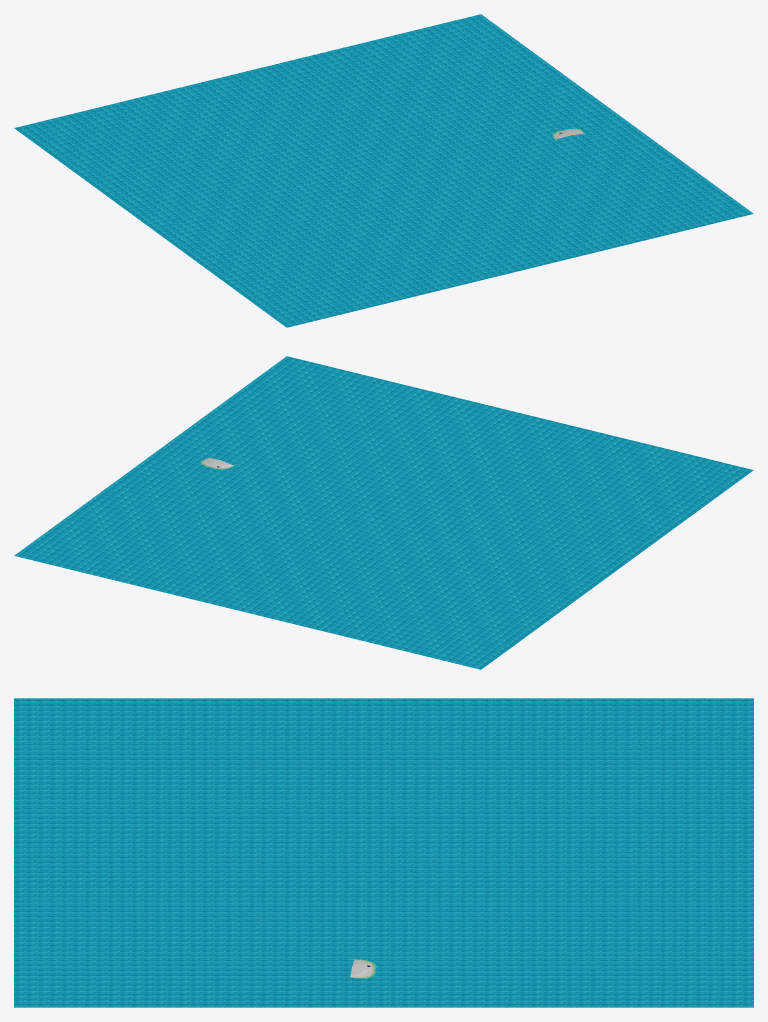
File: MainMenu2.obj
3 renders of one model, top to bottom at view 1: azimuth 30°, elevation 25°; view 2: azimuth 150°, elevation 25°; view 3: azimuth 270°, elevation 25°, orthographic. The views are drawn at different scales.
Bounding box in the file's own units: 7922 × 97.83 × 8014.
